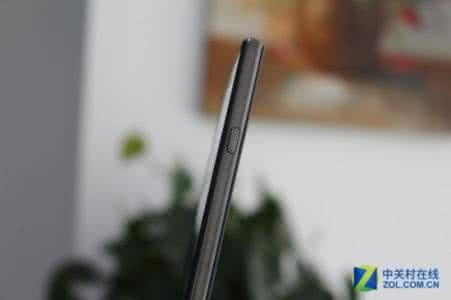phone: (181, 36, 266, 293)
